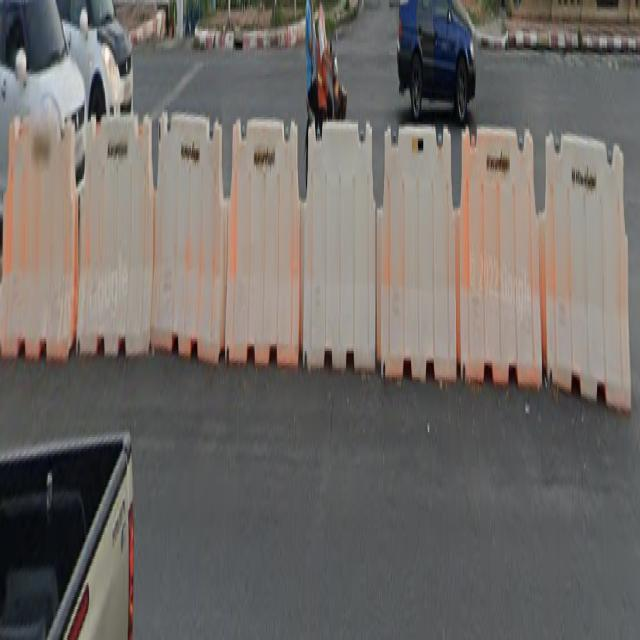fallen_object: (260, 96, 638, 407), (193, 97, 329, 380), (139, 96, 254, 371), (49, 103, 160, 365), (0, 90, 101, 372)
